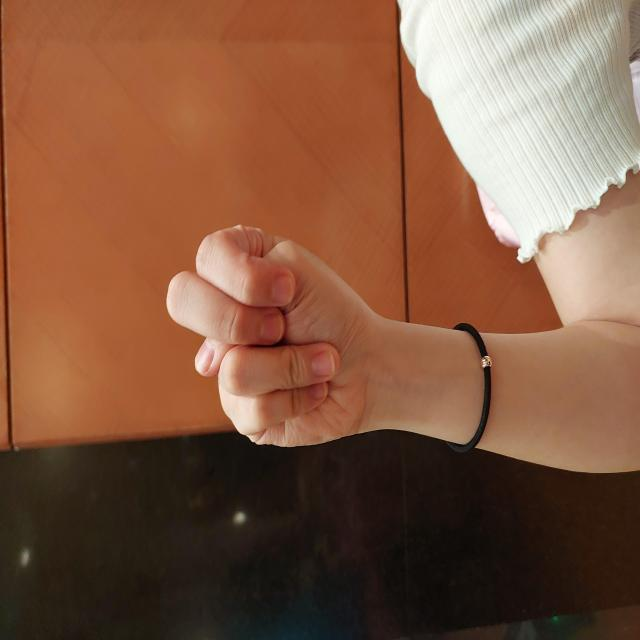N: (190, 165, 417, 374)
